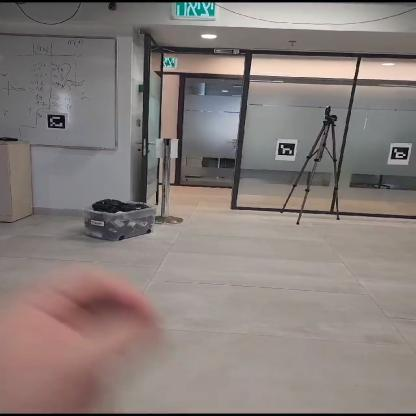open: (142, 69, 248, 224)
